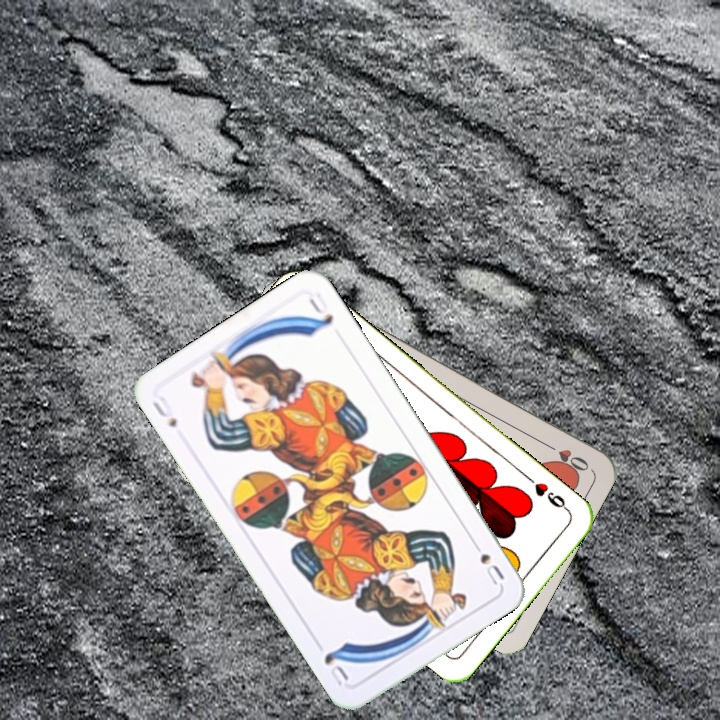H9: (523, 472, 572, 515)
HO: (538, 437, 592, 474)
SU: (466, 535, 507, 588), (148, 391, 180, 431)
